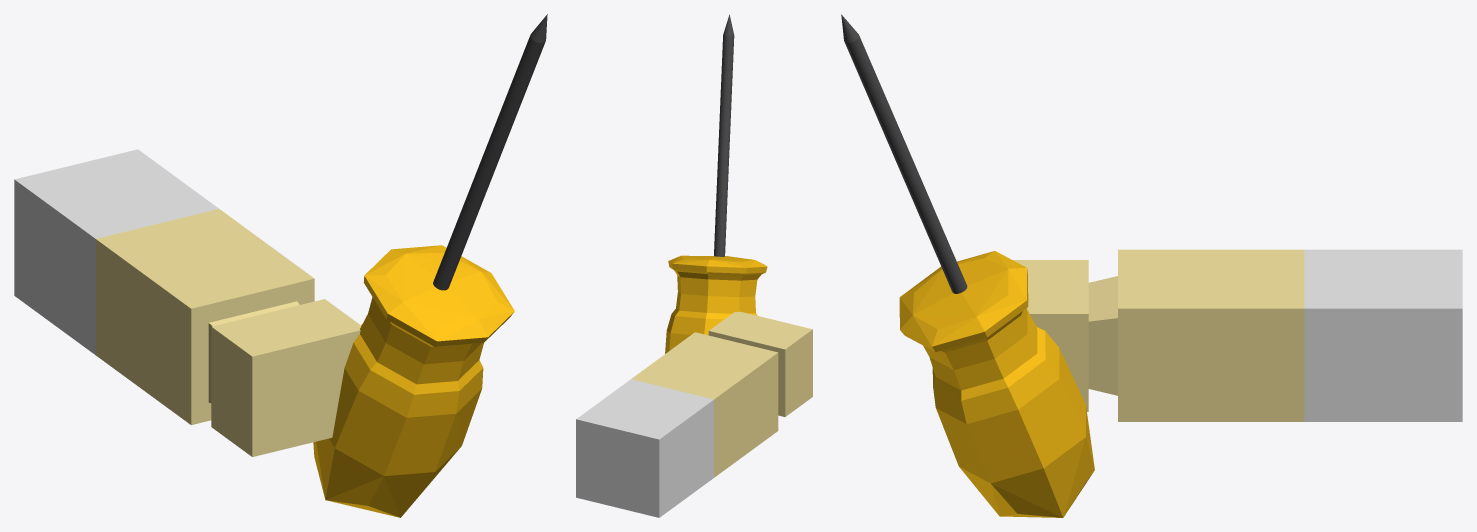
The model's file is fakewallgun.obj.
3 views of the same model, side by side, from view 1: azimuth 30°, elevation 25°; view 2: azimuth 150°, elevation 25°; view 3: azimuth 270°, elevation 25° (orthographic). The views are drawn at different scales.
Visible parts, largest first — view 1: cube5, cube2, cylinder3; view 2: cube5, cube2, cylinder3; view 3: cube5, cube2, cylinder3.
Part boxes in pixels (<box>): cube5: <box>14,149,361,456</box>; cube2: <box>313,245,514,517</box>; cylinder3: <box>433,14,547,290</box>; cube5: <box>576,311,812,517</box>; cube2: <box>665,255,767,353</box>; cylinder3: <box>714,14,734,256</box>; cube5: <box>1013,249,1462,421</box>; cube2: <box>899,251,1094,517</box>; cylinder3: <box>841,14,967,293</box>.
Bounding box in the file's own units: 15.02 × 34.06 × 35.73.
4 materials, 4 textured.
